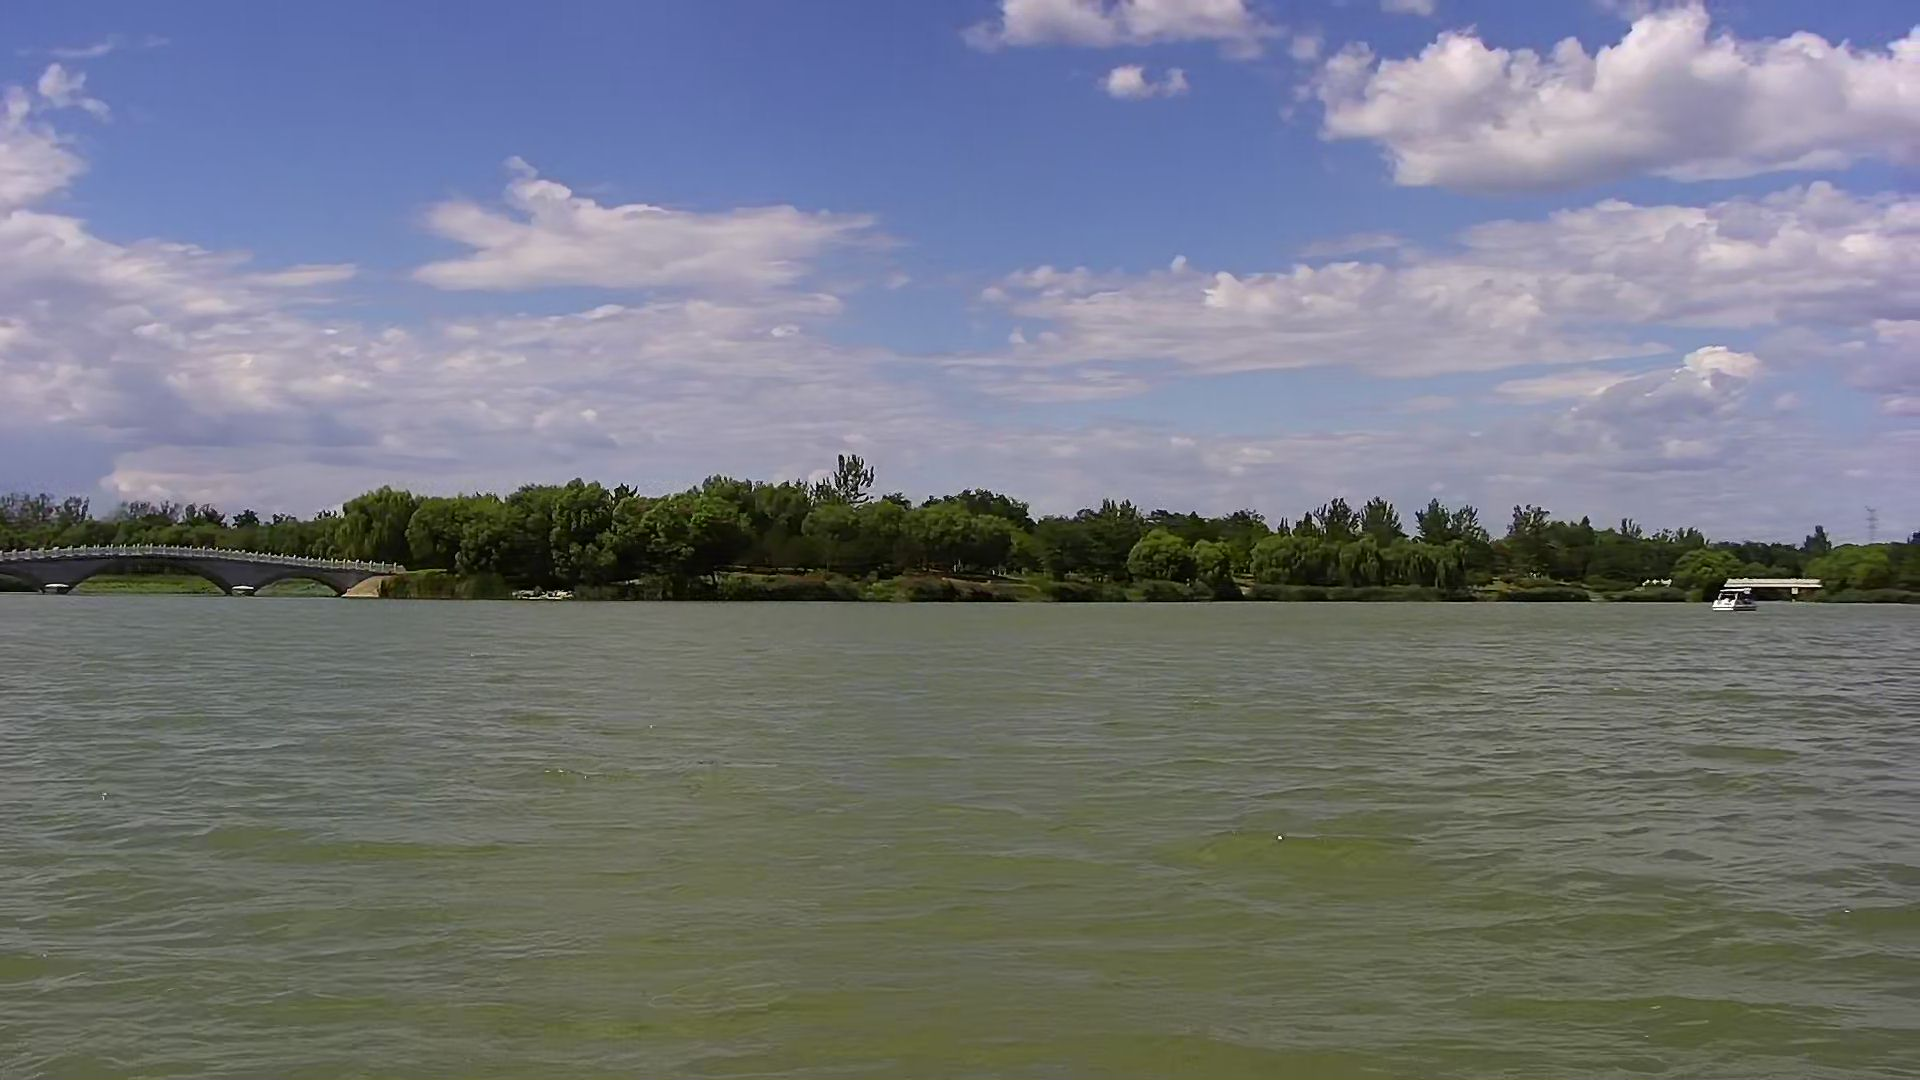boat: (1702, 574, 1770, 626)
bridge: (1, 529, 427, 601)
